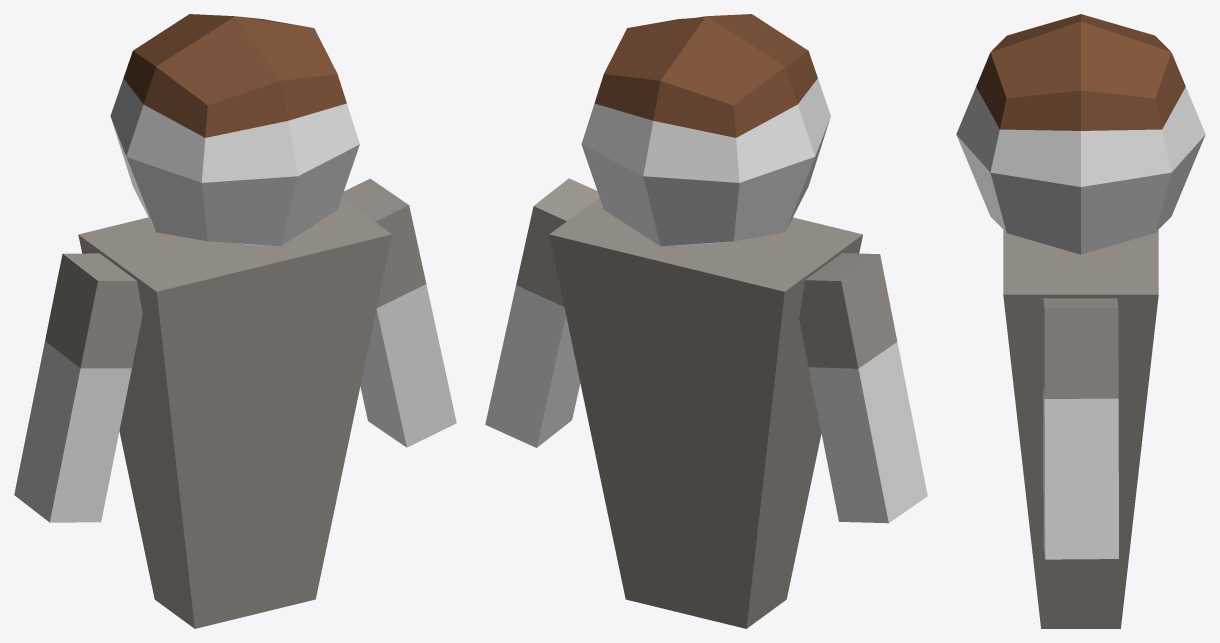
File: Citizen.fbx
3 views of the same model, side by side, from view 1: azimuth 30°, elevation 25°; view 2: azimuth 150°, elevation 25°; view 3: azimuth 270°, elevation 25° (orthographic).
Visible parts, largest first — view 1: Cube, Cube.002, Cube.001; view 2: Cube, Cube.002, Cube.001; view 3: Cube.002, Cube, Cube.001.
Part boxes in pixels (box(x1,y1,x2,y2)): Cube: box(78, 198, 391, 628); Cube.002: box(110, 14, 359, 246); Cube.001: box(14, 178, 456, 522); Cube: box(549, 198, 862, 628); Cube.002: box(581, 14, 830, 246); Cube.001: box(485, 178, 927, 523); Cube.002: box(956, 14, 1205, 254); Cube: box(1003, 230, 1158, 628); Cube.001: box(1043, 298, 1118, 559).
Bounding box in the file's own units: 115 × 158 × 61.59.
